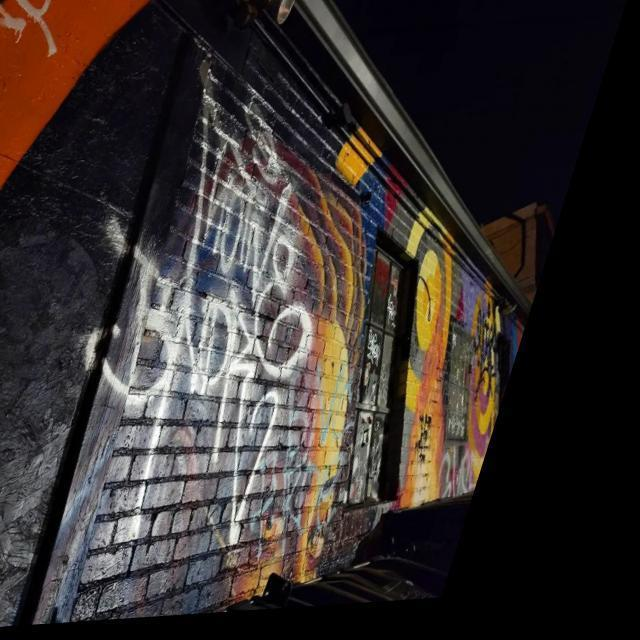-: (0, 21, 484, 616)
